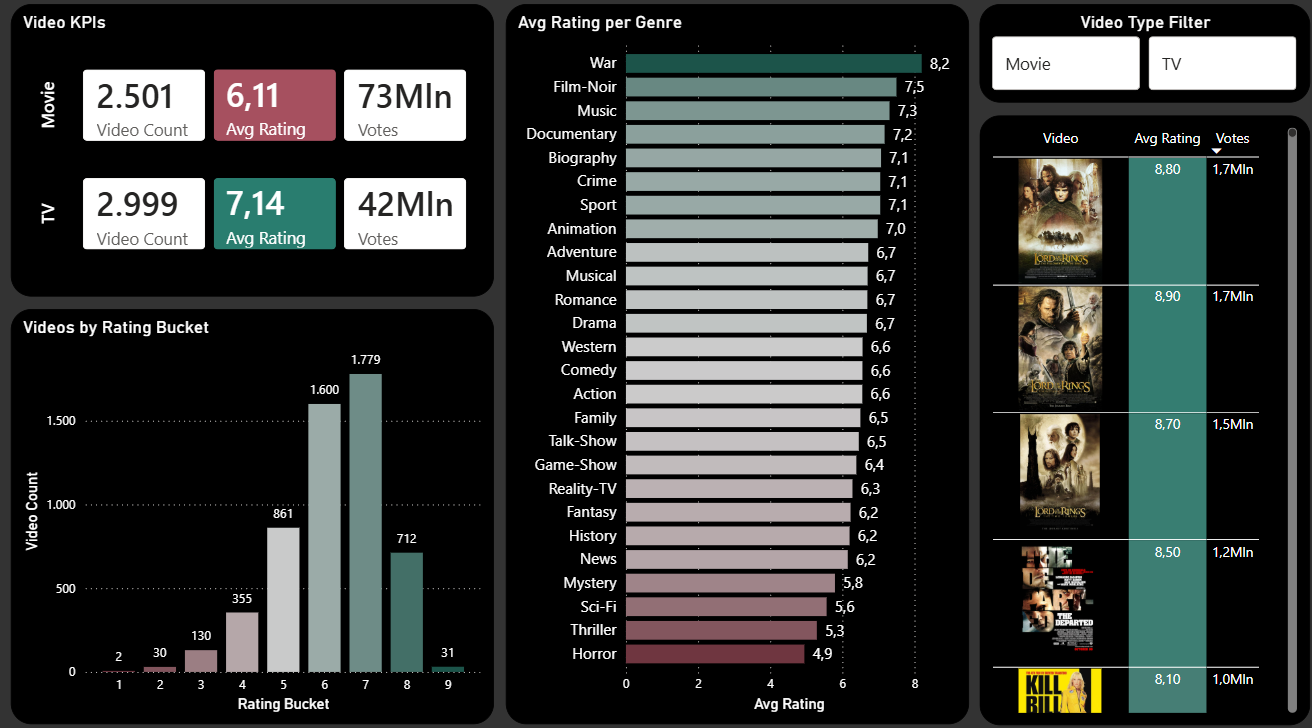

The page's visual inventory and layout, read from the dashboard file:
{"tool":"powerbi","page":{"name":"Report","canvas":[1280,720],"ordinal":0},"visuals":[{"type":"columnChart","title":"Videos by Rating Bucket","fields":{"Category":["netflix_data.Rating_bucket"],"Y":["netflix_data.Video Count"]},"box":[13,304.4,466,401.1],"z":0},{"type":"cardVisual","title":"Video KPIs","fields":{"Rows":["type_group.type_groupd"],"Data":["netflix_data.Video Count","netflix_data.Avg Rating","netflix_data.Votes"]},"box":[13,10.1,466,282.8],"z":1000},{"type":"clusteredBarChart","title":"Avg Rating per Genre","fields":{"Category":["netflix_data.genre"],"Y":["netflix_data.Avg Rating"]},"box":[490.5,10.1,447.3,695.4],"z":2000},{"type":"advancedSlicerVisual","title":"Video Type Filter","fields":{"Values":["type_group.type_groupd"]},"box":[947.9,10.1,318.9,95.2],"z":3000},{"type":"tableEx","fields":{"Values":["netflix_data.image_url","netflix_data.Avg Rating","netflix_data.Votes"]},"box":[947.9,116.9,318.9,588.6],"z":4000}]}

Visuals, with their boxes in screenshot pixels (x1, y1, x2, y2), scaled from the page's 1280x720 canvas onto the 1312x728 screenshot:
"Videos by Rating Bucket" columnChart: 13, 308, 491, 713
"Video KPIs" cardVisual: 13, 10, 491, 296
"Avg Rating per Genre" clusteredBarChart: 503, 10, 961, 713
"Video Type Filter" advancedSlicerVisual: 972, 10, 1298, 106
tableEx - netflix_data.image_url x netflix_data.Avg Rating: 972, 118, 1298, 713
